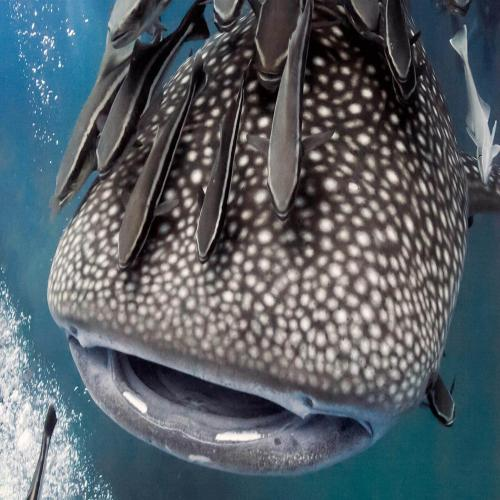shark-endangered: (46, 0, 470, 479)
